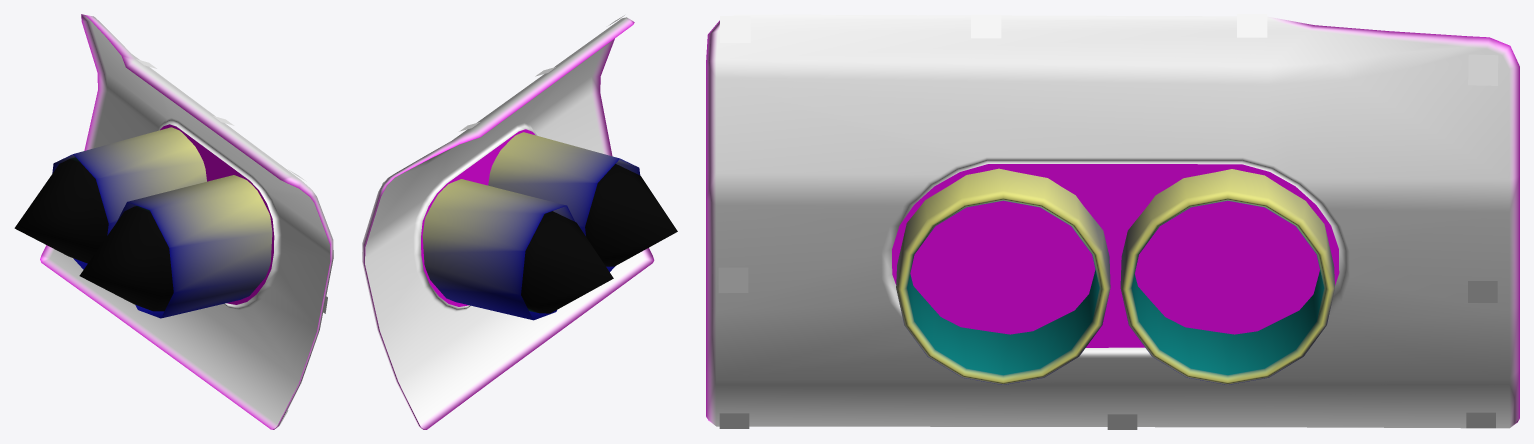
The model's file is Car_Nissan_SkylineGTRVspecR34_1999_Exhausts_SetF_AltB.fbx.
The picture shows the model from 3 angles, left to right: view 1: azimuth 30°, elevation 25°; view 2: azimuth 150°, elevation 25°; view 3: azimuth 270°, elevation 25°; orthographic projection. The views are drawn at different scales.
Visible parts, largest first — view 1: Exhausts 6; view 2: Exhausts 6; view 3: Exhausts 6.
Boxes of the visible parts, x1,y1,x2,y2 form: Exhausts 6: (14,14,333,429); Exhausts 6: (362,15,677,429); Exhausts 6: (706,14,1519,429).
Size of the model in its own units: 0.1295 by 0.157 by 0.269.
